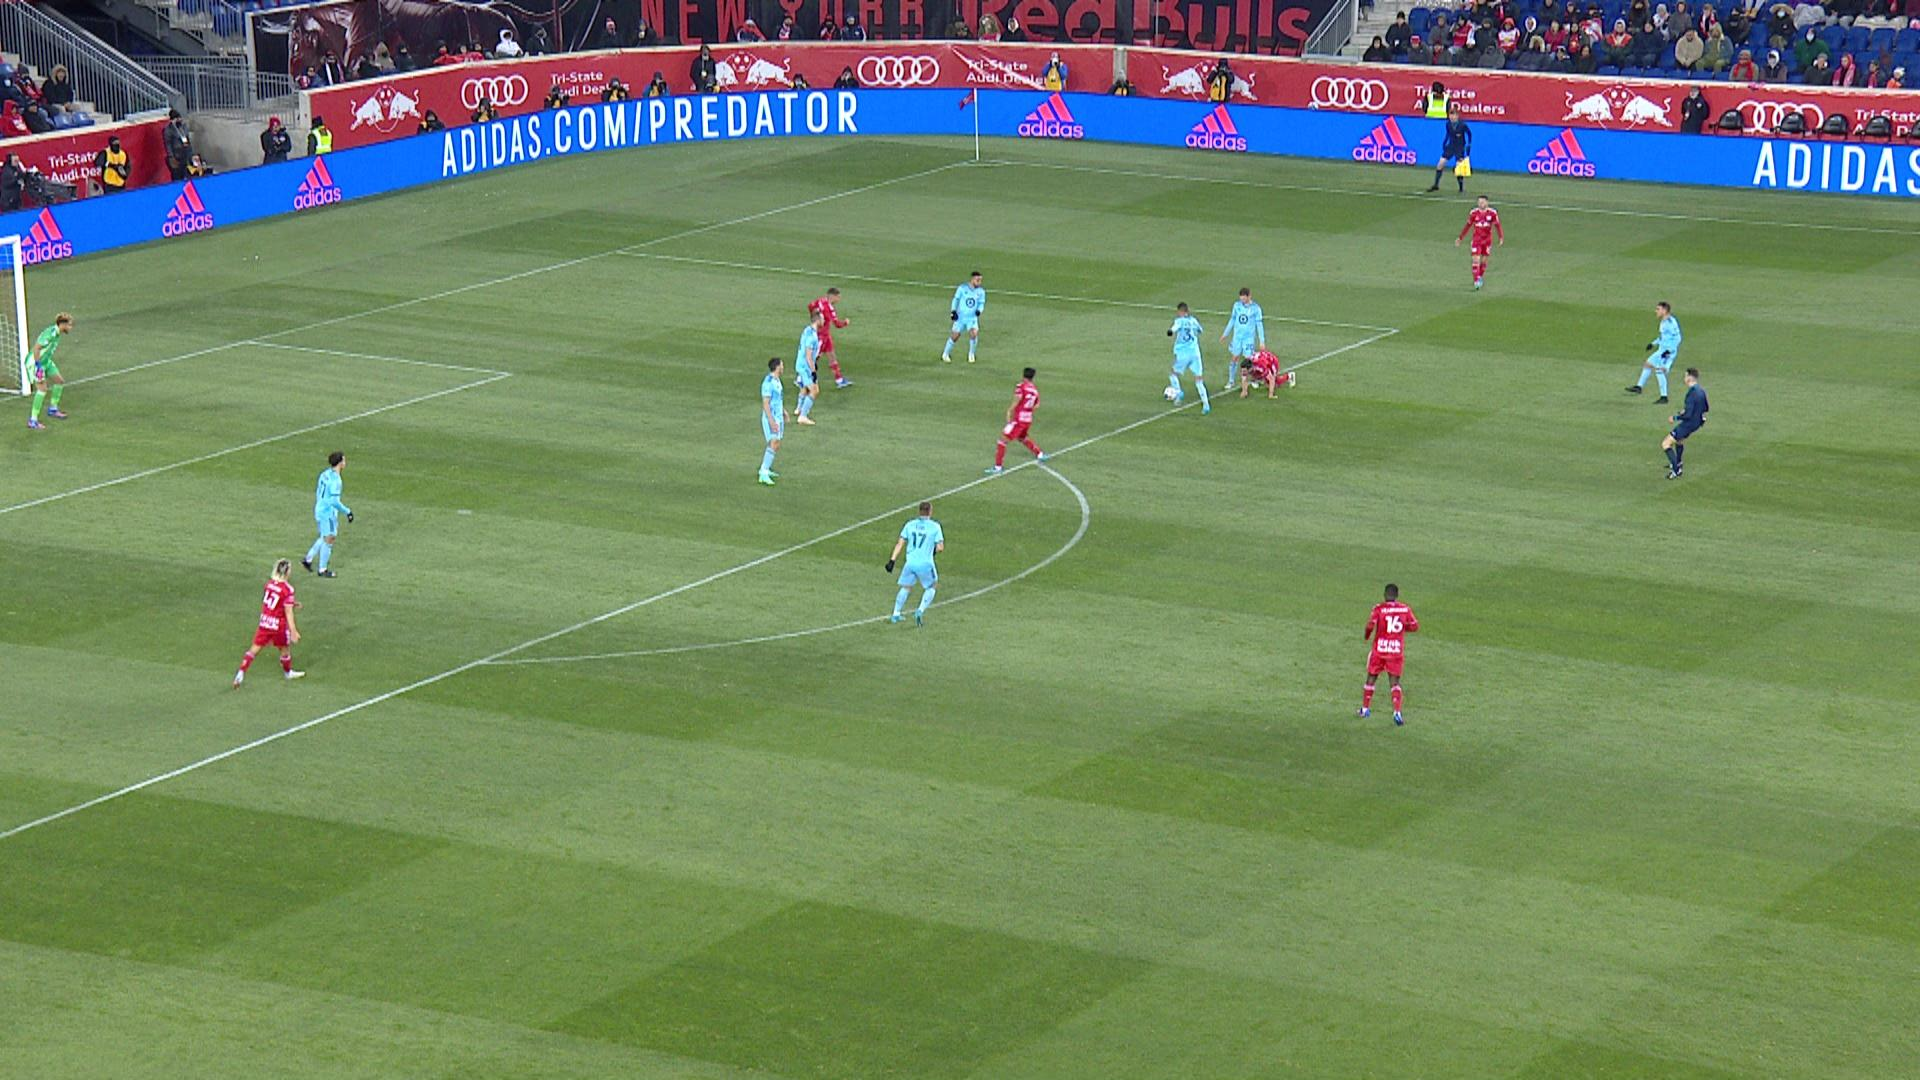football: (1162, 385, 1174, 401)
